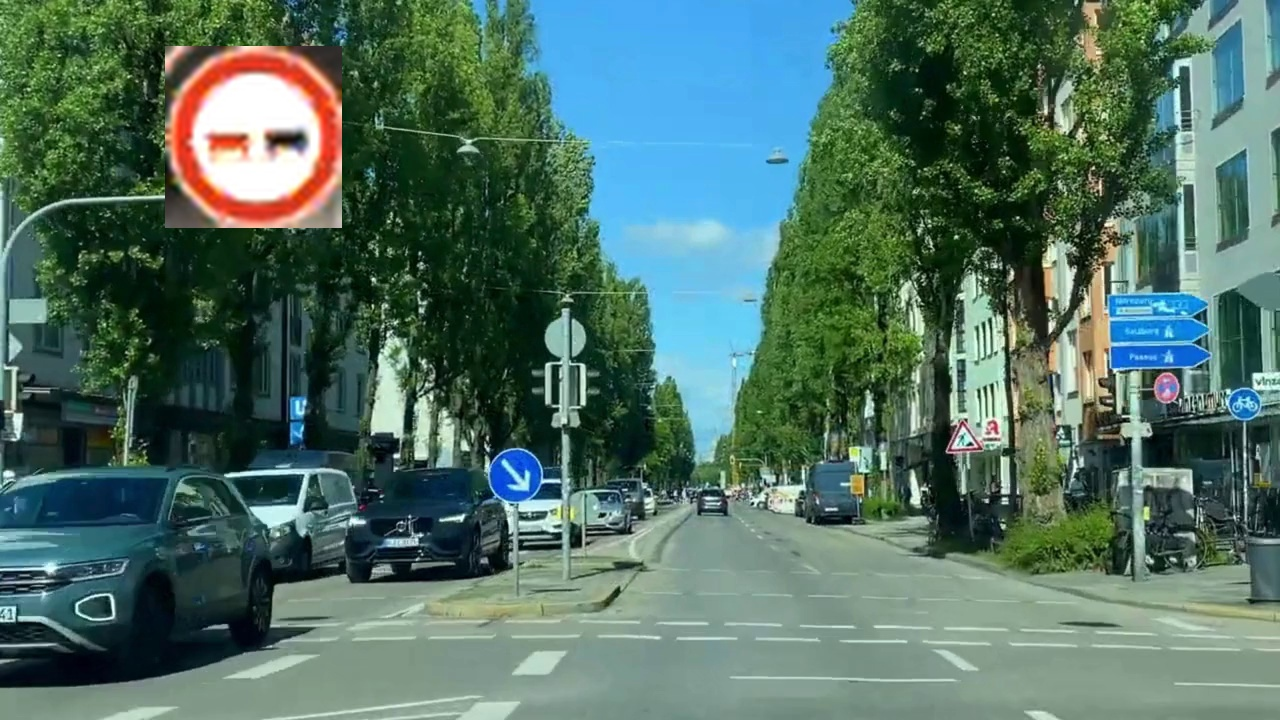No passing: (165, 46, 342, 228)
